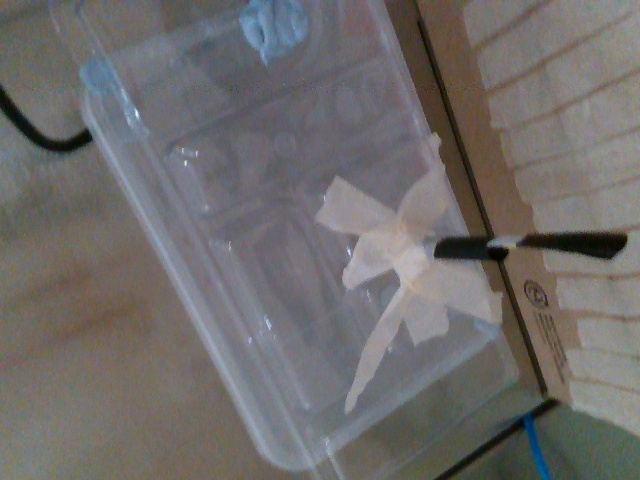test_strip: (488, 230, 626, 260)
